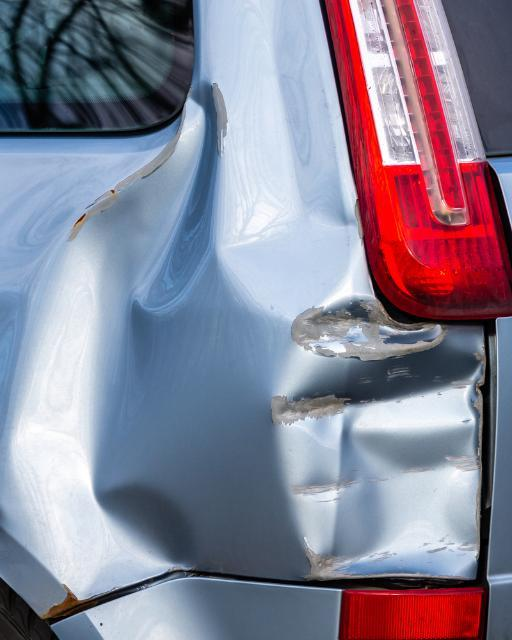dent: (2, 0, 487, 589)
